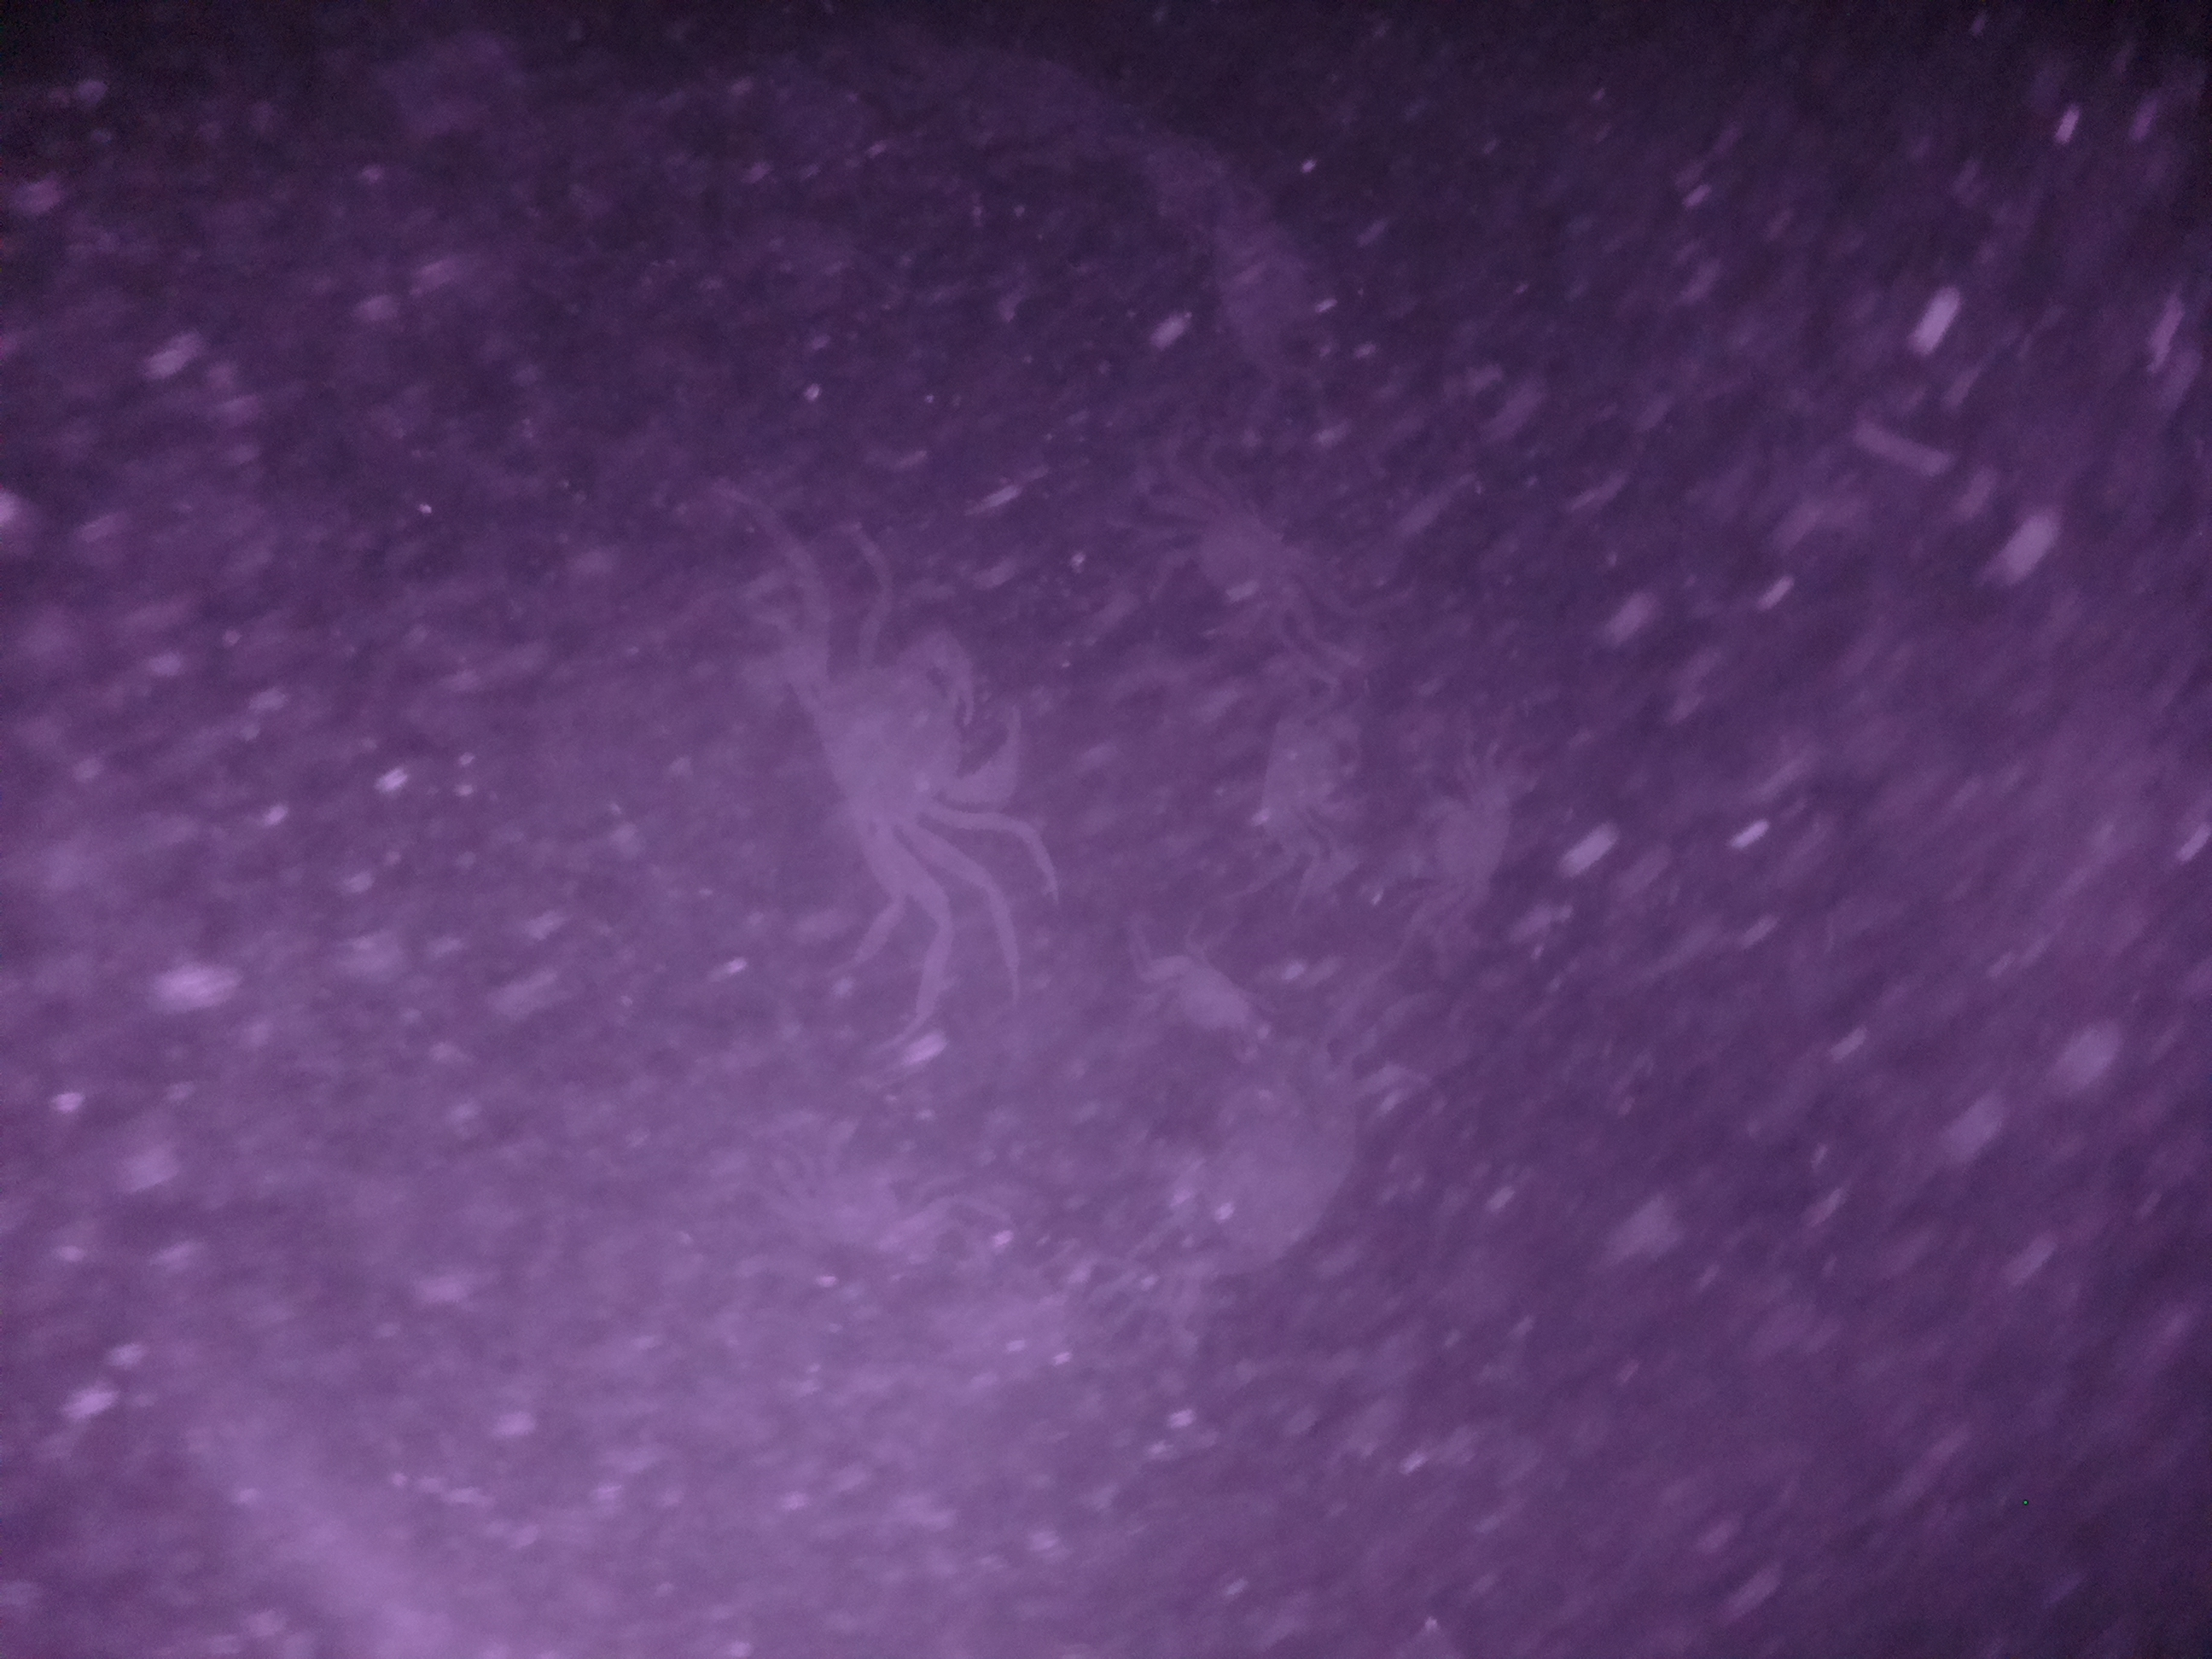Crab: (782, 599, 1033, 889), (1388, 727, 1534, 943), (1137, 462, 1312, 641), (1237, 673, 1381, 871)
